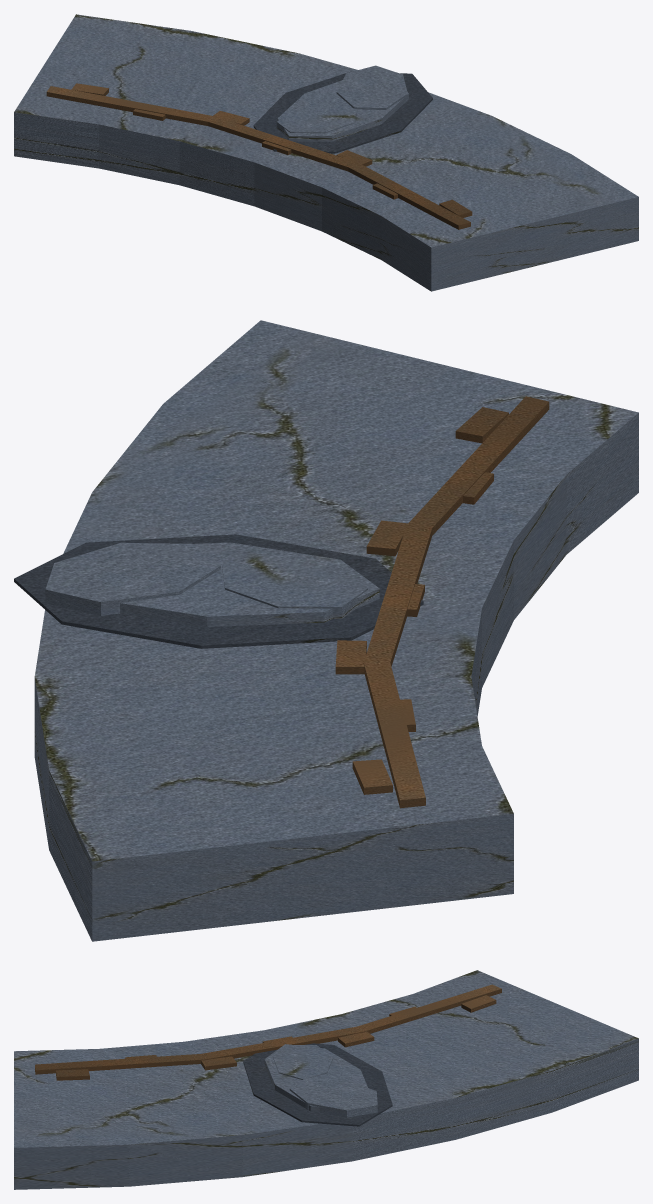
File: arena_inner_segment.glb
The picture shows the model from 3 angles, top to bottom: view 1: azimuth 30°, elevation 25°; view 2: azimuth 150°, elevation 25°; view 3: azimuth 270°, elevation 25°; orthographic projection. The views are drawn at different scales.
Parts seen in each view (by area): view 1: arena_inner_segment; view 2: arena_inner_segment; view 3: arena_inner_segment.
Boxes of the visible parts, bbox=[...] form: arena_inner_segment: bbox=[14, 14, 638, 291]; arena_inner_segment: bbox=[14, 320, 638, 941]; arena_inner_segment: bbox=[14, 970, 638, 1189].
Bounding box in the file's own units: 1.36 × 0.182 × 2.02.
Materials: 3 (3 with a texture image).
